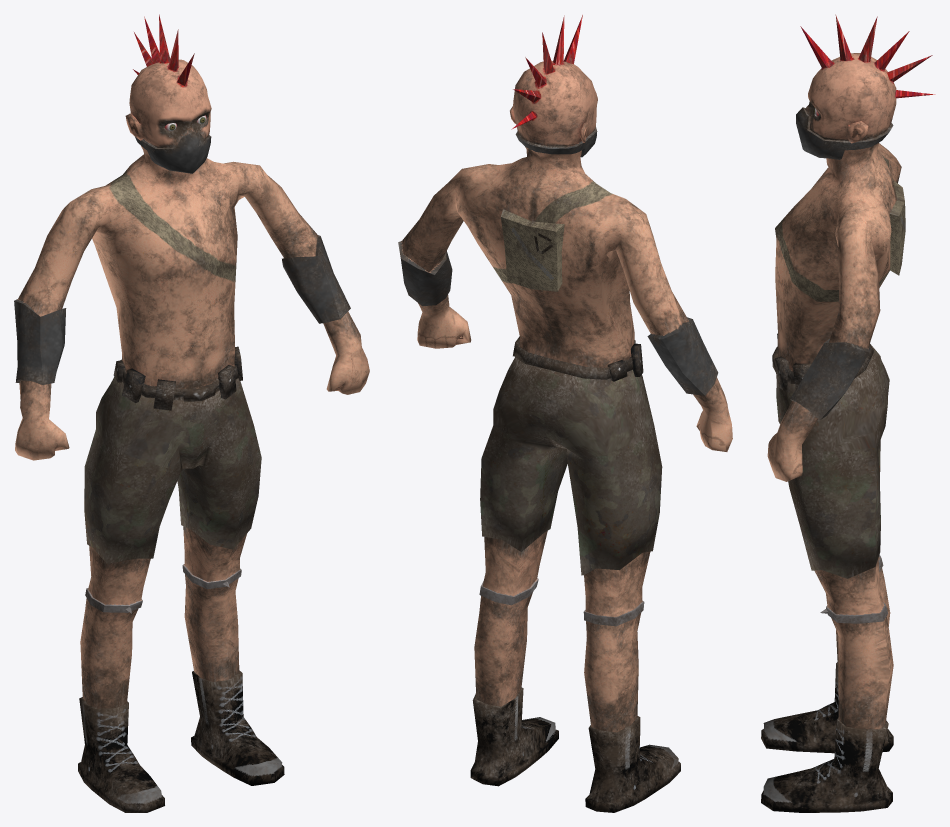
File: Anim_idle_npc2.0040.obj
3 views of the same model, side by side, from view 1: azimuth 30°, elevation 25°; view 2: azimuth 150°, elevation 25°; view 3: azimuth 270°, elevation 25° (orthographic). The views are drawn at different scales.
Visible parts, largest first — view 1: polySurface1; view 2: polySurface1; view 3: polySurface1.
Boxes of the visible parts, <box> form: polySurface1: <box>14,14,369,812</box>; polySurface1: <box>398,15,732,812</box>; polySurface1: <box>761,14,935,812</box>.
Size of the model in its own units: 4.71 by 10.19 by 2.12.
2 materials, 2 textured.
